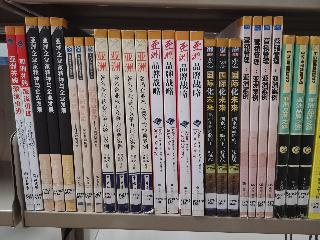book-spine: (3, 25, 35, 212), (37, 16, 67, 213), (26, 17, 56, 213), (14, 25, 45, 212), (50, 15, 79, 212), (262, 16, 285, 218), (92, 28, 117, 213), (284, 35, 309, 219), (108, 29, 131, 214), (273, 35, 296, 220), (297, 36, 320, 220), (63, 36, 86, 212), (146, 29, 168, 213), (84, 36, 106, 214), (122, 29, 143, 213), (73, 37, 94, 213), (135, 29, 154, 215), (159, 29, 178, 213), (174, 31, 192, 217), (237, 17, 253, 218), (189, 31, 206, 217), (258, 16, 272, 218), (248, 17, 262, 218), (203, 38, 218, 218), (215, 38, 229, 218), (227, 38, 241, 218)
